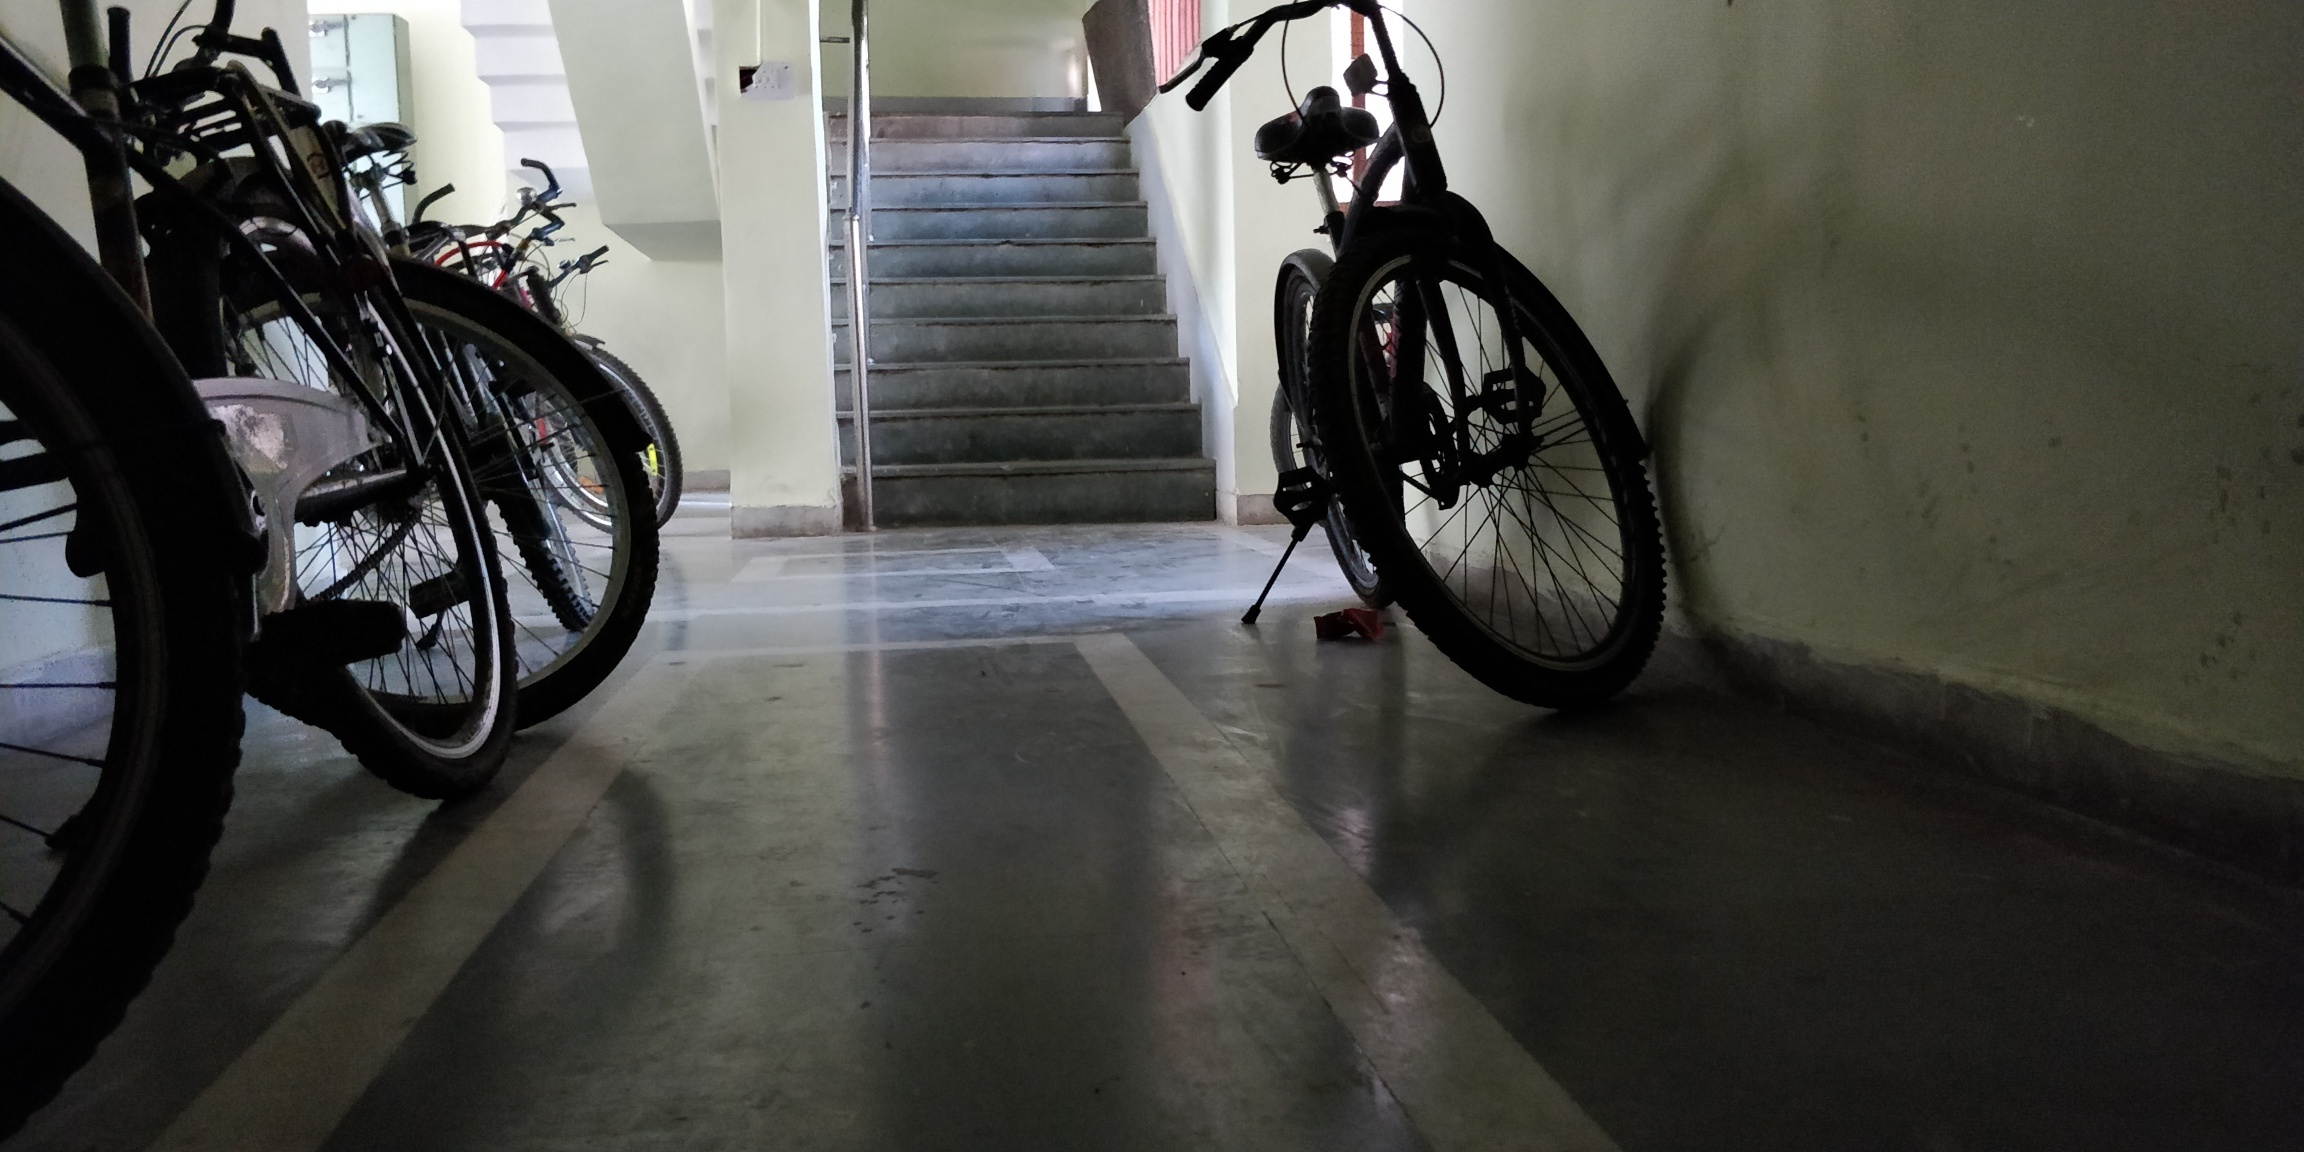stairs_up: (805, 132, 1200, 530)
